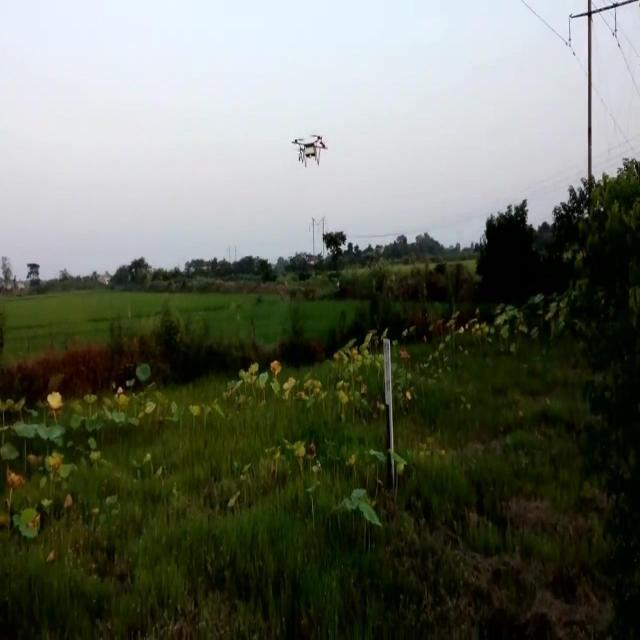drone: (292, 130, 328, 172)
